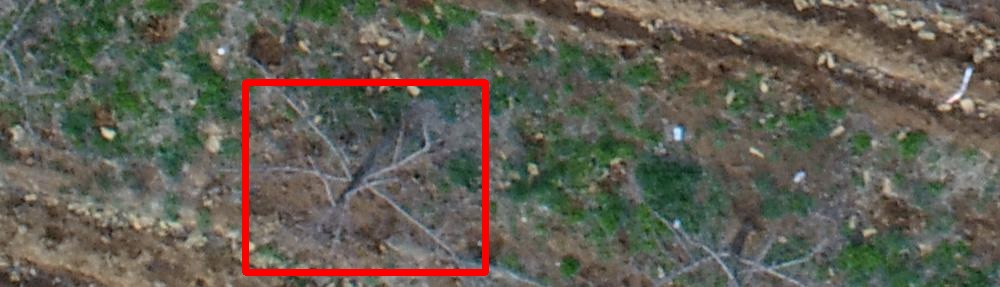apple: (245, 82, 485, 272)
